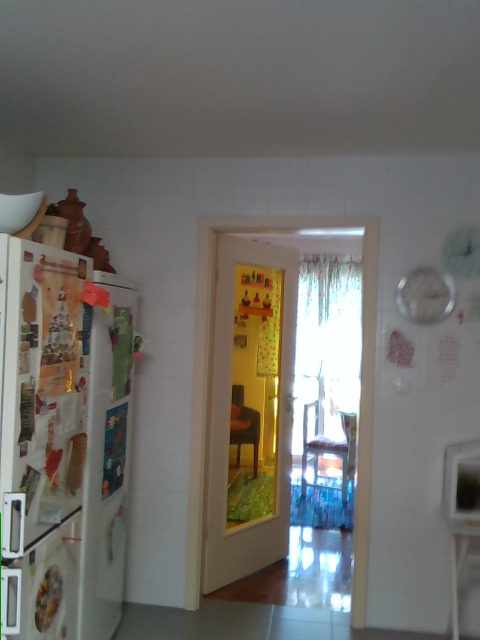semi: (185, 211, 385, 630)
